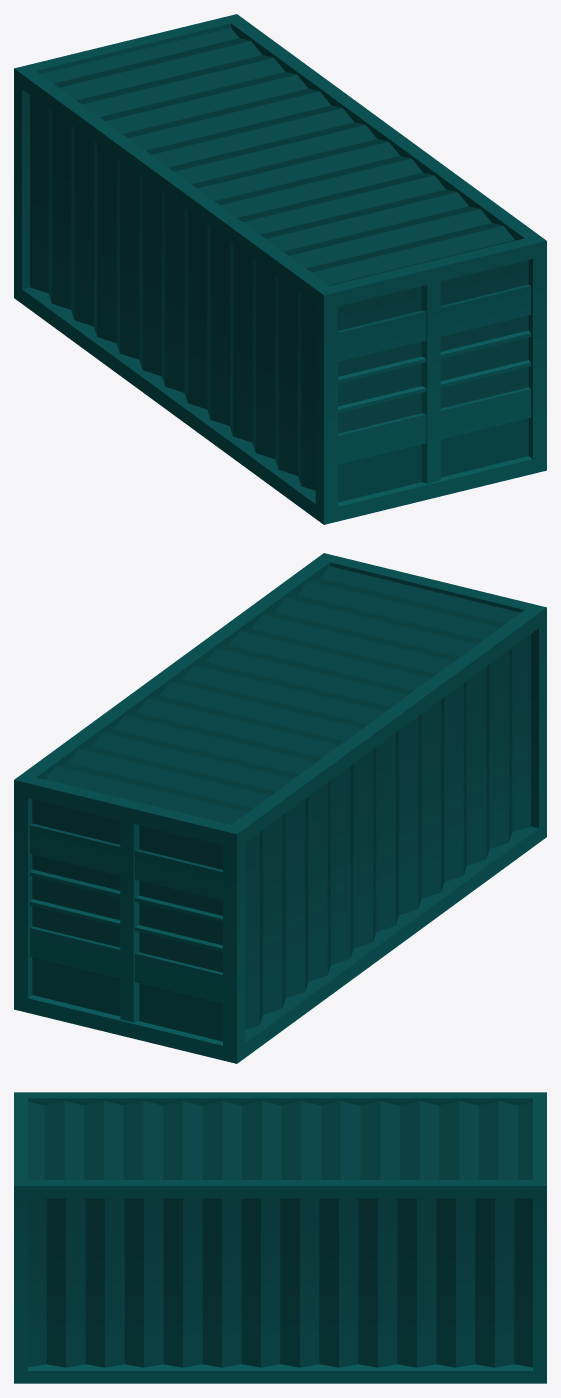
Rendered from Container_1_2.fbx.
3 views of the same model, one above another, from view 1: azimuth 30°, elevation 25°; view 2: azimuth 150°, elevation 25°; view 3: azimuth 270°, elevation 25° (orthographic). The views are drawn at different scales.
Parts seen in each view (by area): view 1: Container_1_2; view 2: Container_1_2; view 3: Container_1_2.
Boxes of the visible parts, <box> form: Container_1_2: <box>14,14,546,524</box>; Container_1_2: <box>14,553,546,1063</box>; Container_1_2: <box>14,1092,546,1383</box>.
Size of the model in its own units: 198 by 195 by 477.
